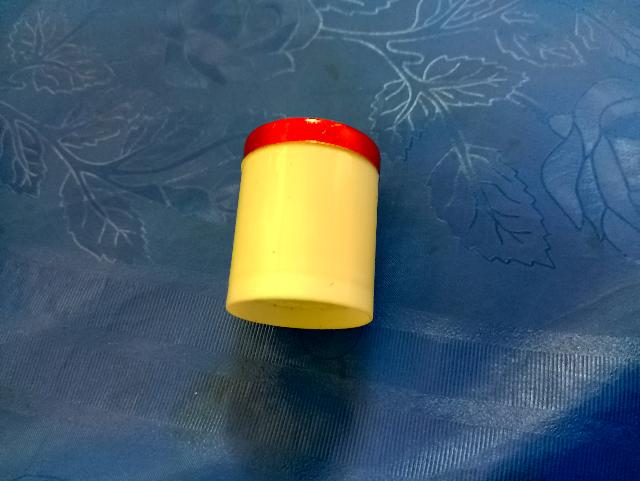hardplastic: (185, 94, 439, 363)
